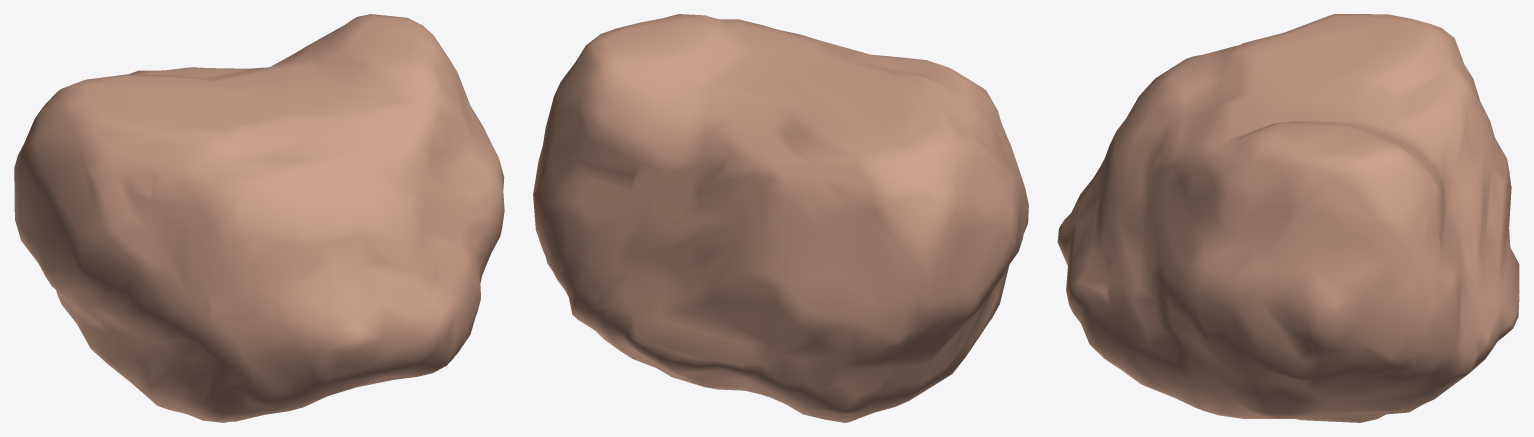
The model's file is tsd_s0327_older_adult_male.reproductive.LOD4.glb.
3 renders of one model, left to right at view 1: azimuth 30°, elevation 25°; view 2: azimuth 150°, elevation 25°; view 3: azimuth 270°, elevation 25°, orthographic. The views are drawn at different scales.
Visible parts, largest first — view 1: TSD_S0327.OLDER_ADULT.MALE.REPRODUCTIVE.PROSTATE; view 2: TSD_S0327.OLDER_ADULT.MALE.REPRODUCTIVE.PROSTATE; view 3: TSD_S0327.OLDER_ADULT.MALE.REPRODUCTIVE.PROSTATE.
Part boxes in pixels (box(x1,y1,x2,y2)): TSD_S0327.OLDER_ADULT.MALE.REPRODUCTIVE.PROSTATE: box(14, 14, 504, 422); TSD_S0327.OLDER_ADULT.MALE.REPRODUCTIVE.PROSTATE: box(533, 14, 1028, 422); TSD_S0327.OLDER_ADULT.MALE.REPRODUCTIVE.PROSTATE: box(1057, 14, 1519, 422).
Bounding box in the file's own units: 0.044 × 0.0288 × 0.0401.
